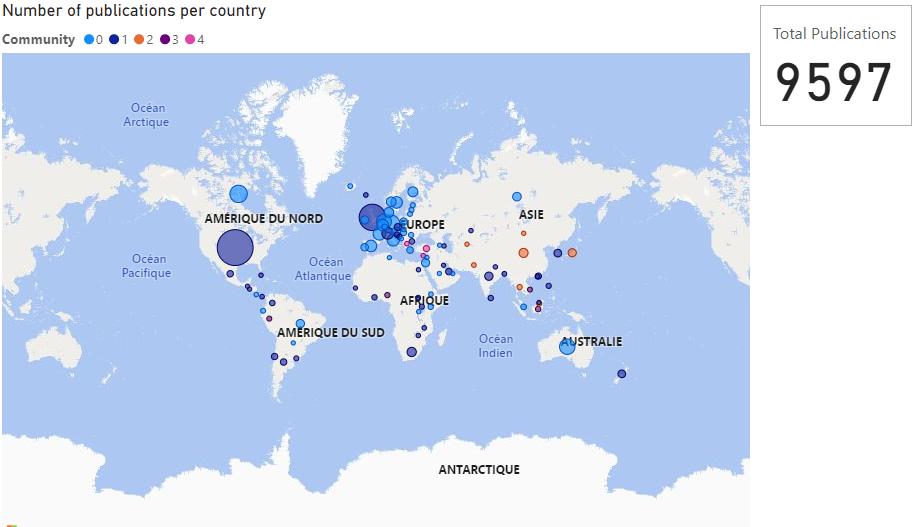

The dashboard page shown, as its layout file describes it:
{"tool":"powerbi","page":{"name":"Page 1","canvas":[1280,720],"ordinal":0},"visuals":[{"type":"filledMap","fields":{"Category":["national_output.country_name"],"Series":["national_output.Community"]},"box":[0,6.6,656.4,455.9],"z":0}]}

Visuals, with their boxes in screenshot pixels (x1, y1, x2, y2), scaled from the page's 1280x720 canvas onto the 915x527 screenshot:
filledMap - national_output.country_name x national_output.Community: bbox=(0, 5, 469, 339)
